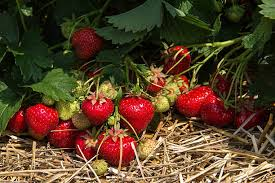ripe: (94, 123, 138, 169), (170, 84, 217, 117), (27, 97, 60, 143), (199, 91, 234, 134), (118, 96, 155, 134), (78, 93, 114, 127), (71, 25, 105, 59), (161, 43, 193, 76), (235, 104, 267, 132), (51, 116, 78, 149), (143, 65, 175, 92), (11, 104, 31, 138), (75, 133, 96, 153)
unripe: (134, 132, 159, 158), (72, 106, 92, 131), (57, 96, 77, 121), (163, 80, 181, 104), (89, 155, 106, 180), (151, 91, 171, 112), (98, 78, 117, 100), (61, 19, 77, 38)
